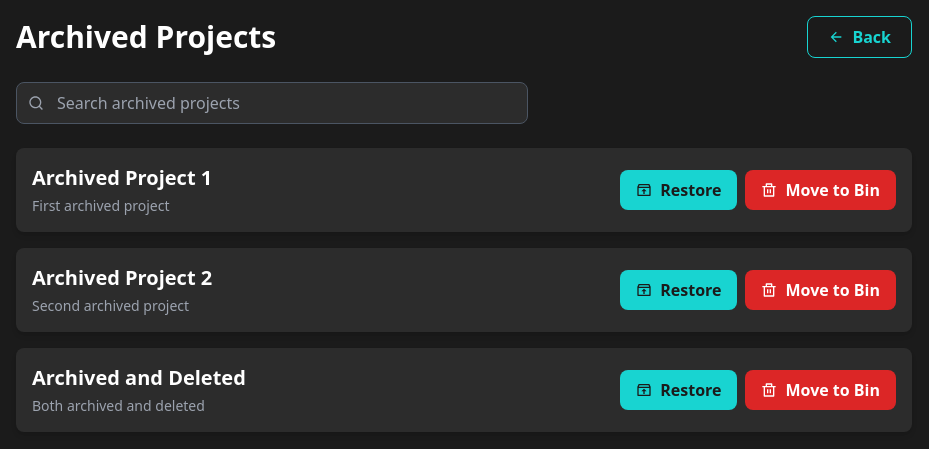
Test: ArchivePage Component › filters projects by name
Check: the button "Archived Project 1" is shown, box [32,164,212,192]
Check: the button "Archived Project 2" is shown, box [32,264,212,292]
Type "Project 1" into the field with placeholder "Search archived projects".
click(272, 103); type("Project 1")  # box [16,82,528,124]
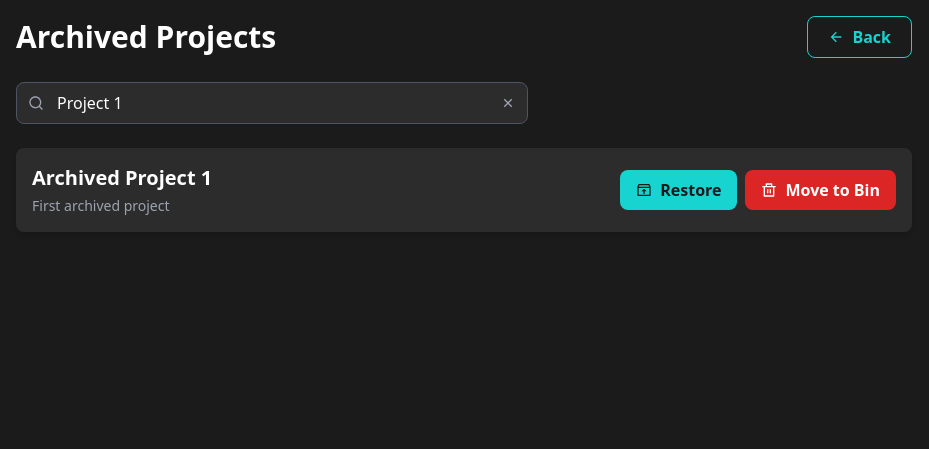
Check: the button "Archived Project 1" is shown, box [32,164,212,192]
Check: the button "Archived Project 2" is gone
